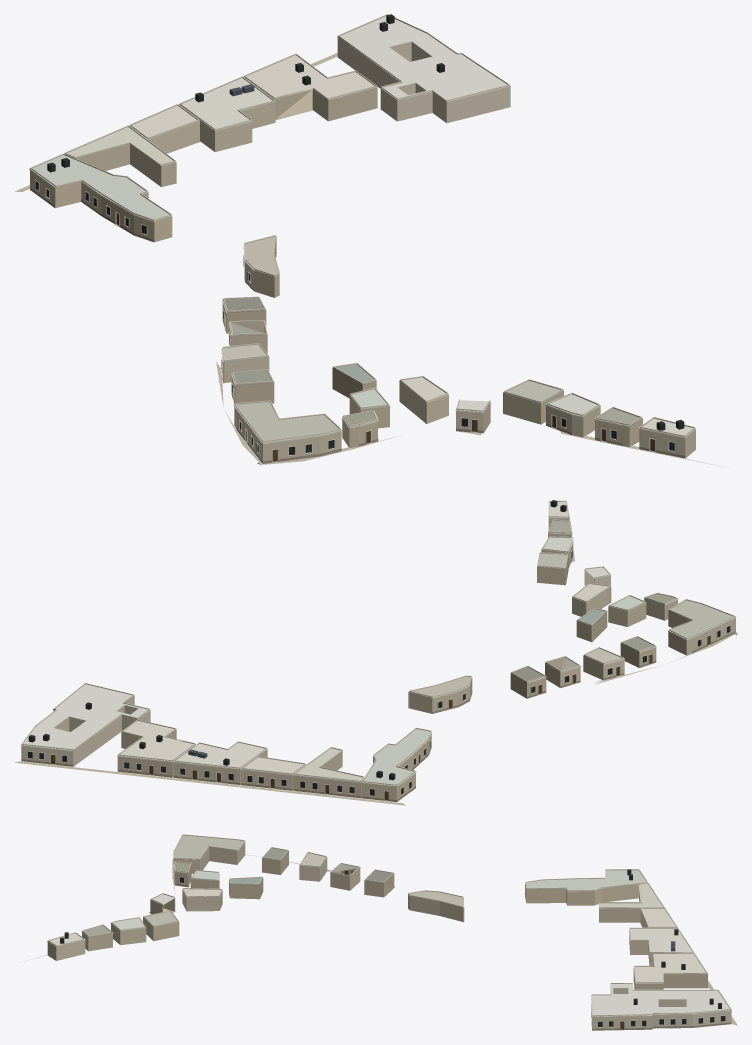
The picture shows the model from 3 angles, top to bottom: view 1: azimuth 30°, elevation 25°; view 2: azimuth 150°, elevation 25°; view 3: azimuth 270°, elevation 25°; orthographic projection. The views are drawn at different scales.
Visible parts, largest first — view 1: edificio; view 2: edificio; view 3: edificio.
Boxes of the visible parts, bbox=[...] form: edificio: bbox=[15, 14, 726, 467]; edificio: bbox=[15, 500, 737, 805]; edificio: bbox=[25, 834, 737, 1030].
Bounding box in the file's own units: 109 × 5.22 × 182.
